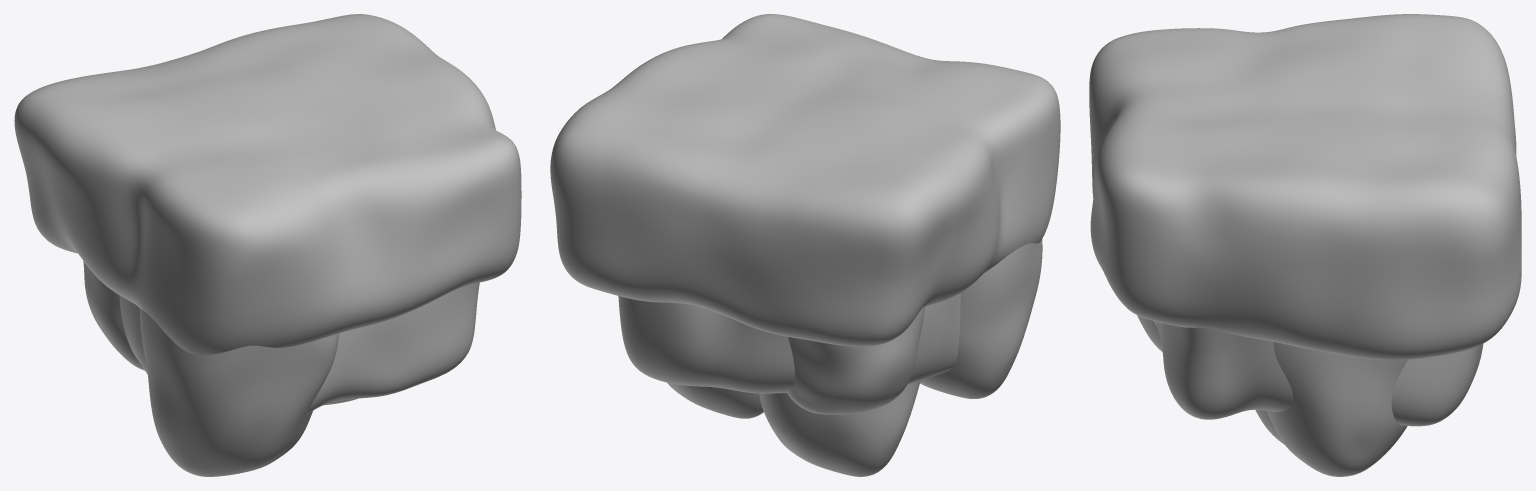
File: RockUnderPlatforms_Group_1.fbx
3 renders of one model, left to right at view 1: azimuth 30°, elevation 25°; view 2: azimuth 150°, elevation 25°; view 3: azimuth 270°, elevation 25°, orthographic. The views are drawn at different scales.
Parts seen in each view (by area): view 1: RockUnderPlatforms_2_LP:RockUnderPlatforms_2_LP:ZBrushPolyMe; view 2: RockUnderPlatforms_2_LP:RockUnderPlatforms_2_LP:ZBrushPolyMe; view 3: RockUnderPlatforms_2_LP:RockUnderPlatforms_2_LP:ZBrushPolyMe.
Boxes of the visible parts, <box> form: RockUnderPlatforms_2_LP:RockUnderPlatforms_2_LP:ZBrushPolyMe: <box>14,14,521,476</box>; RockUnderPlatforms_2_LP:RockUnderPlatforms_2_LP:ZBrushPolyMe: <box>550,14,1060,476</box>; RockUnderPlatforms_2_LP:RockUnderPlatforms_2_LP:ZBrushPolyMe: <box>1089,14,1521,476</box>.
Bounding box in the file's own units: 989 × 889 × 931.
1 material, 1 textured.
